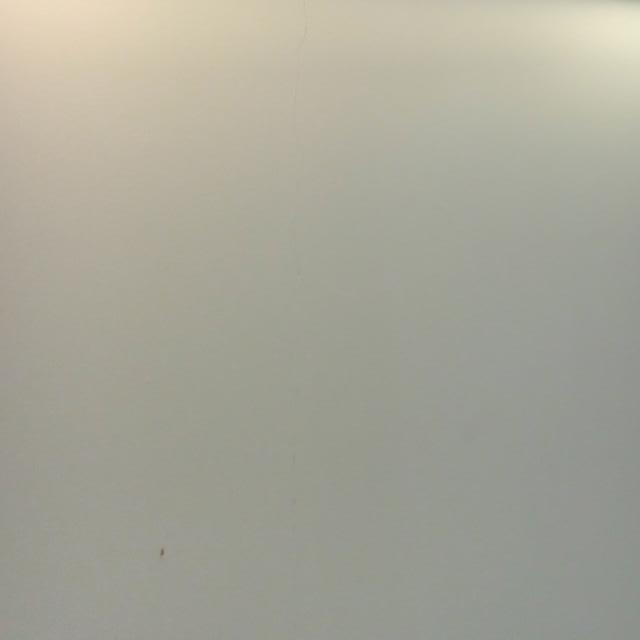fluorescent tube: (0, 0, 640, 13)
